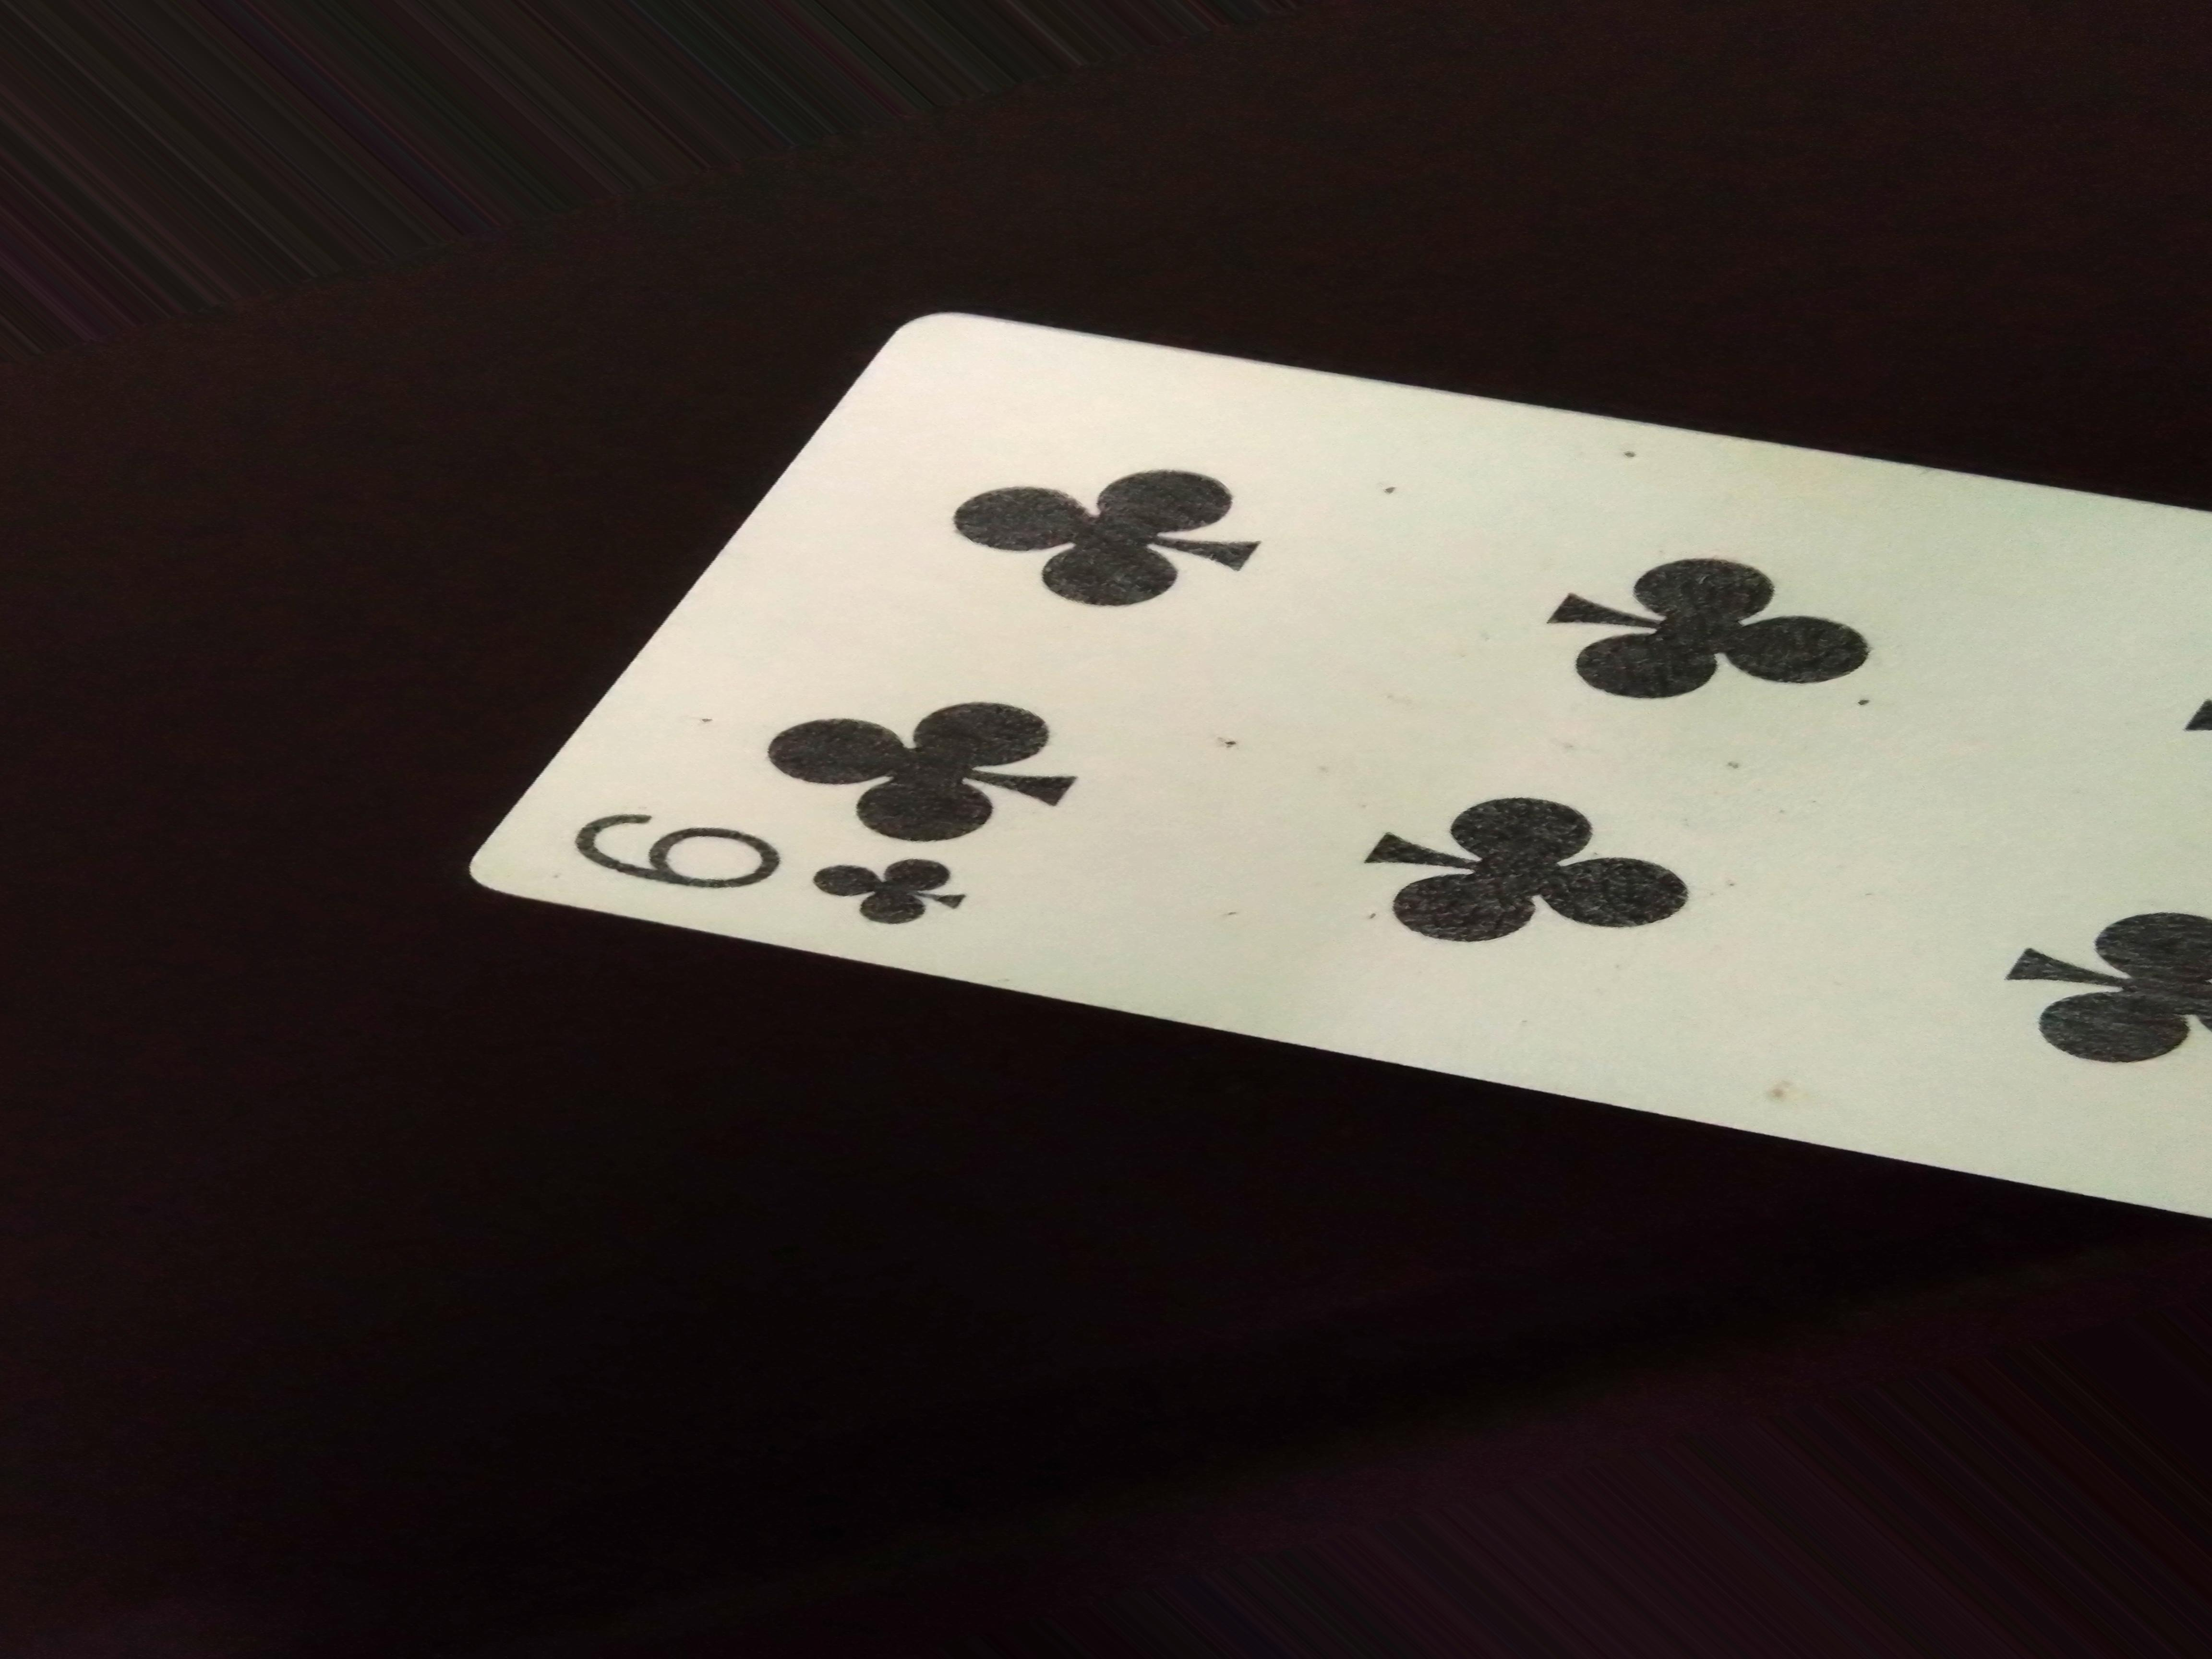6C: (564, 805, 984, 941)
